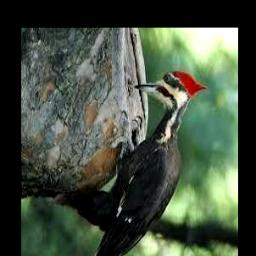Woodpecker: (77, 71, 207, 256)
